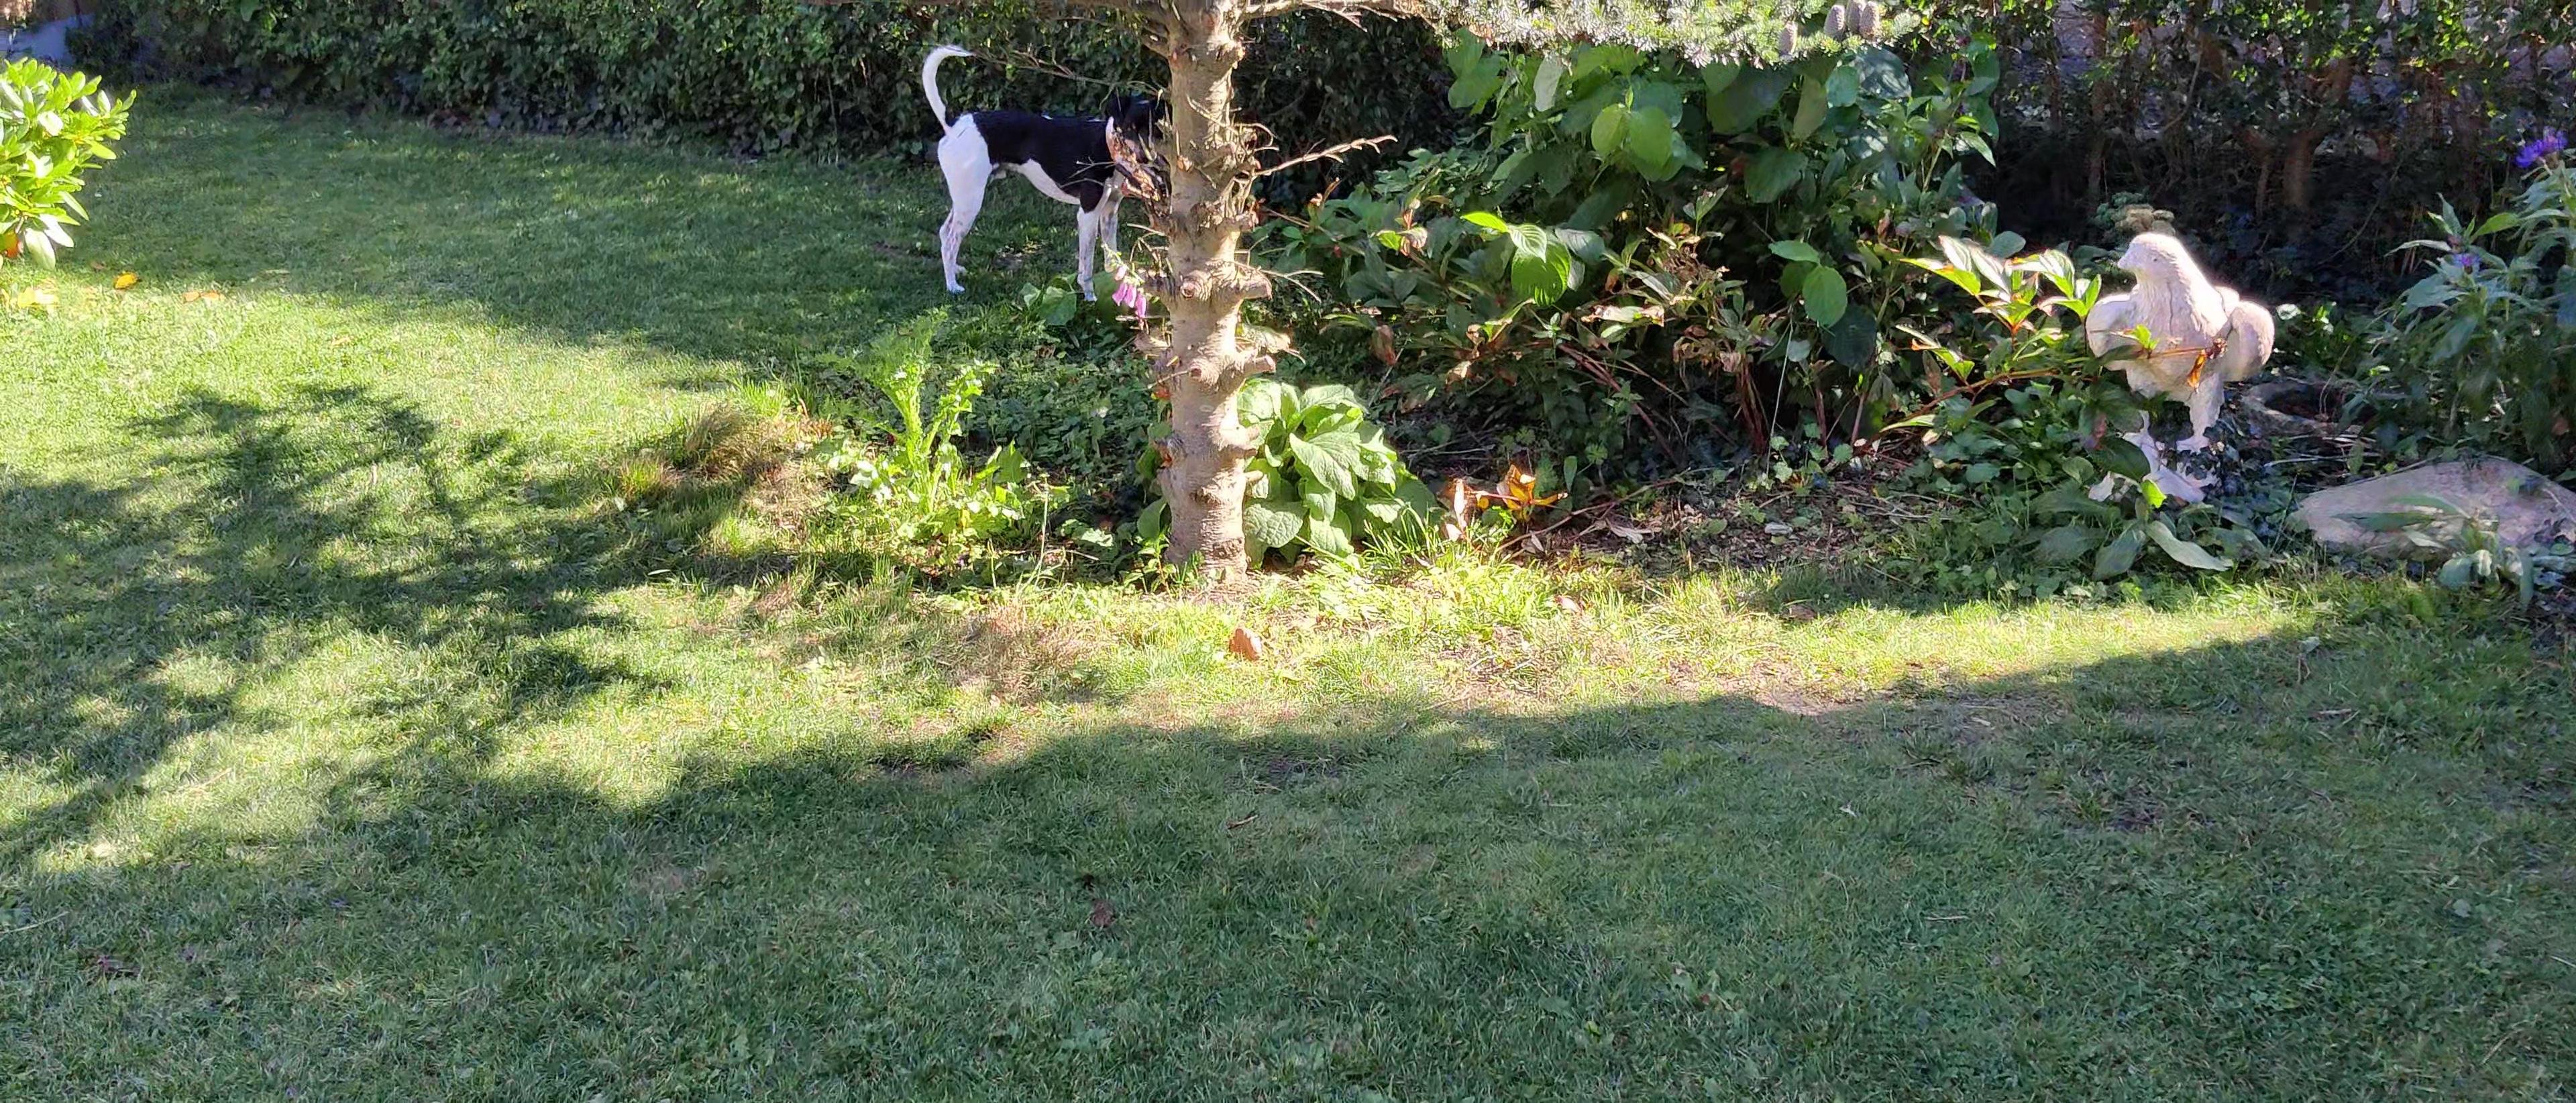Dog: (915, 41, 1175, 304)
